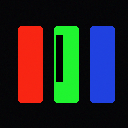4 line_v: (56, 35, 62, 81)
